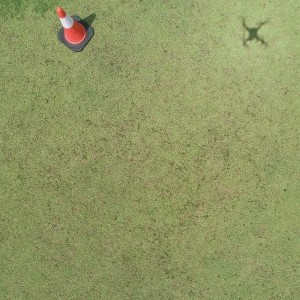traffic cone: (56, 4, 94, 52)
